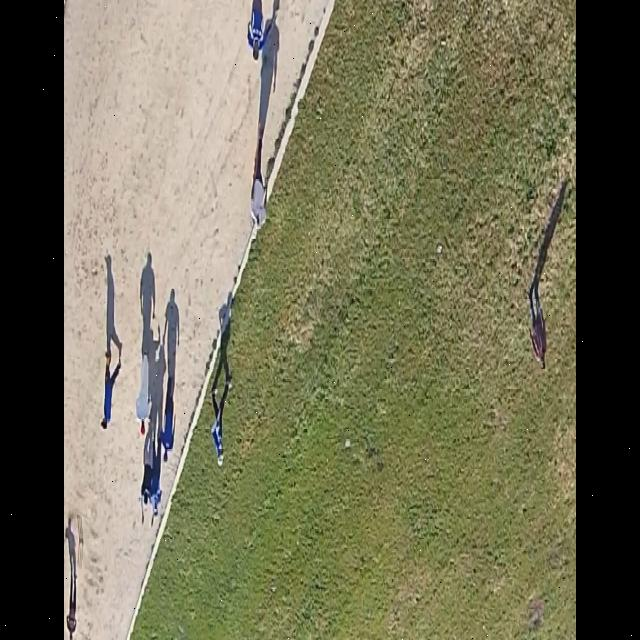humans: (208, 372, 234, 472), (527, 273, 547, 376), (250, 122, 269, 229), (245, 0, 277, 62), (102, 348, 122, 435), (137, 347, 152, 438), (160, 378, 175, 463), (64, 564, 80, 640), (150, 430, 162, 526), (142, 437, 153, 509)
